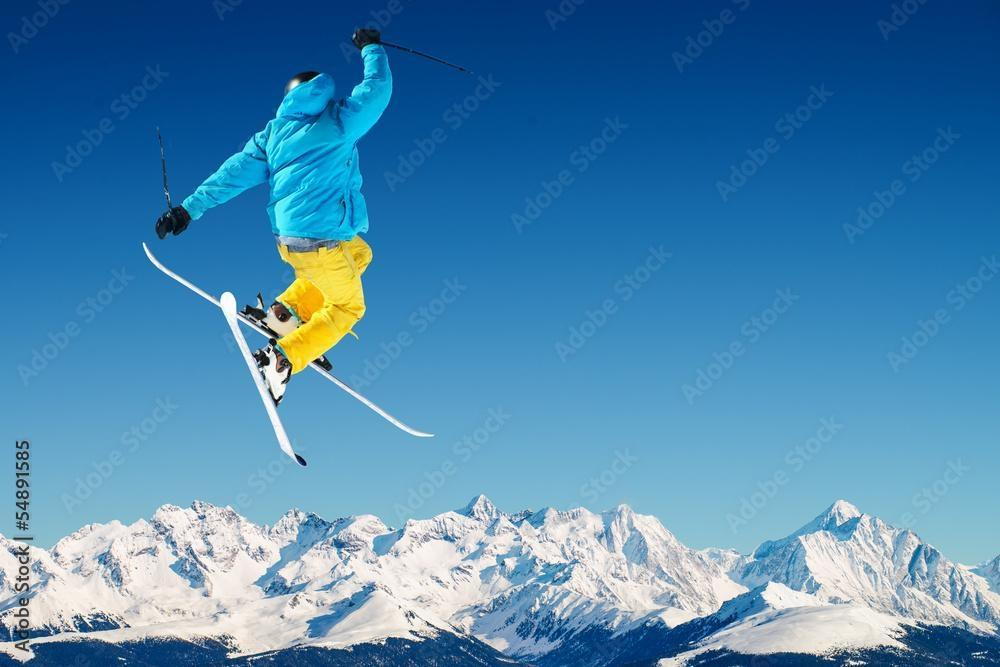Skis: (136, 244, 454, 488)
